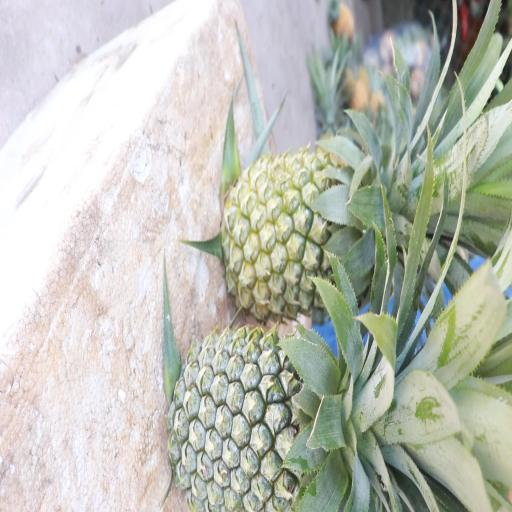Pineapple - v8 v1: (223, 142, 406, 310)
